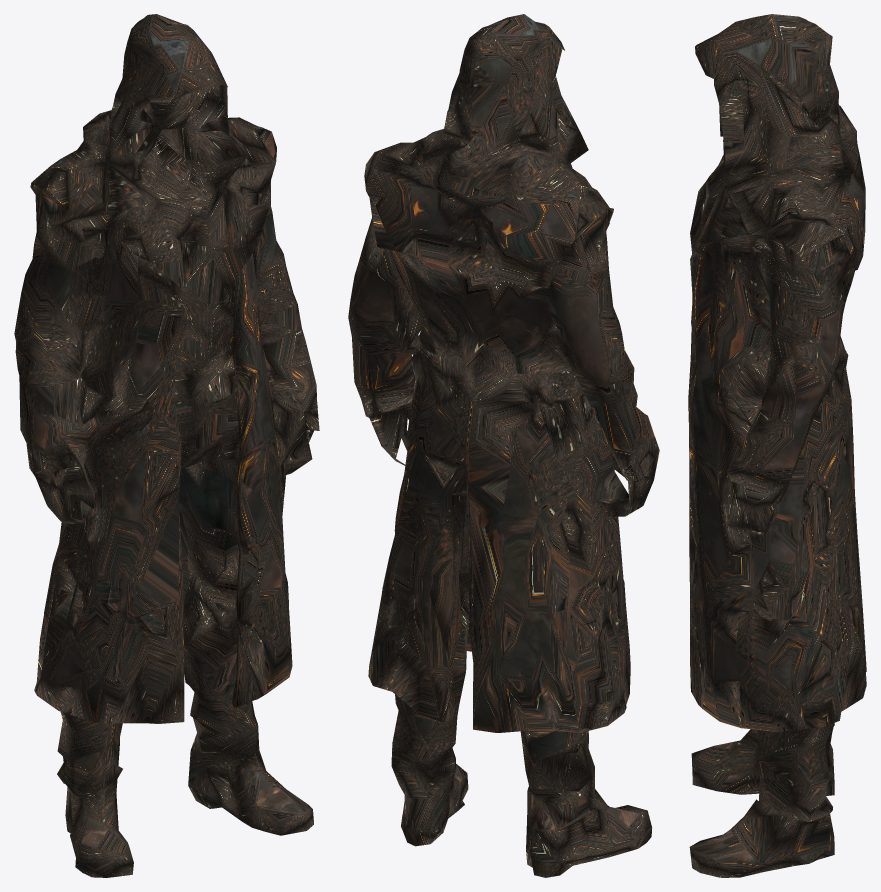
The model's file is rider.glb.
3 renders of one model, left to right at view 1: azimuth 30°, elevation 25°; view 2: azimuth 150°, elevation 25°; view 3: azimuth 270°, elevation 25°, orthographic.
Bounding box in the file's own units: 0.685 × 1.9 × 0.3787.
Materials: 1 (1 with a texture image).
